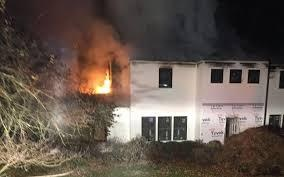fire: (90, 70, 113, 95)
